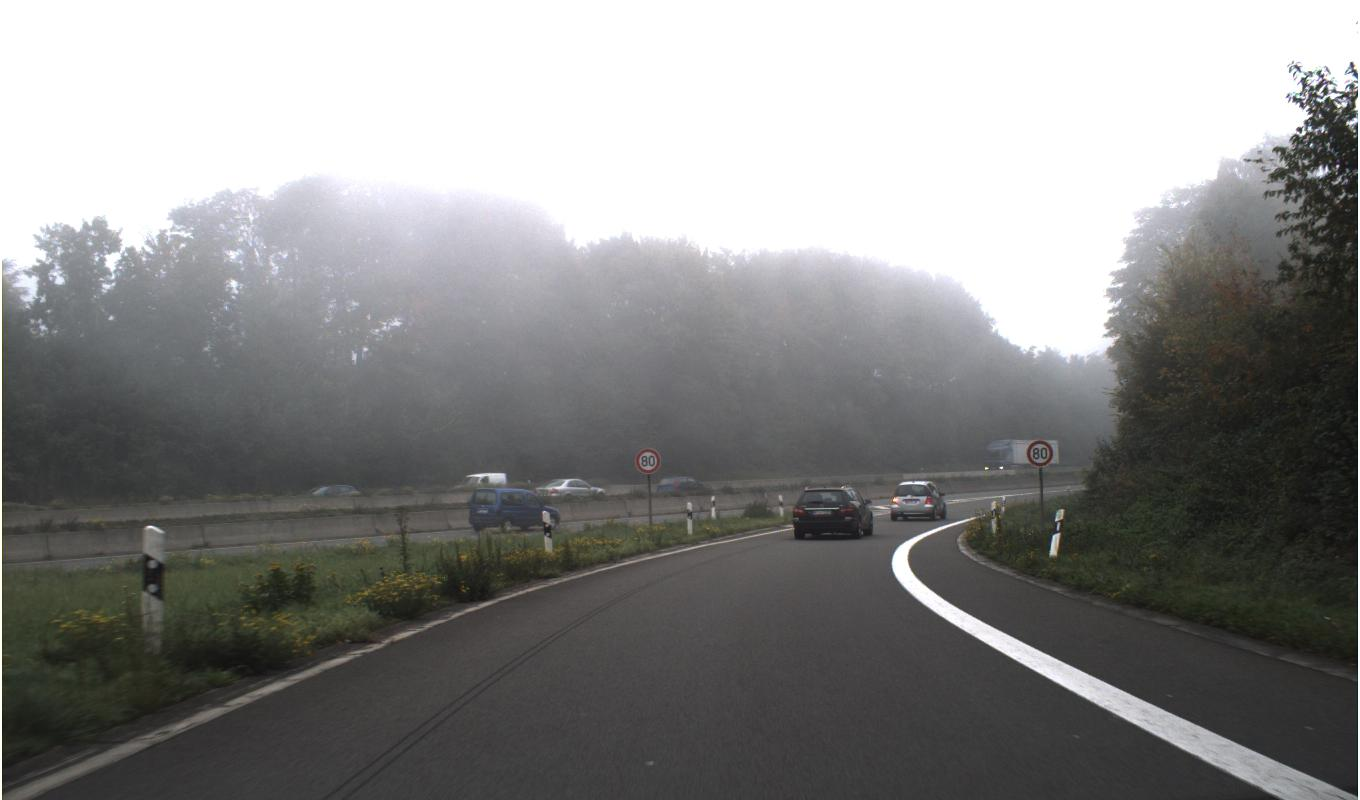prohibitory: (1025, 438, 1054, 468), (634, 447, 660, 474)
